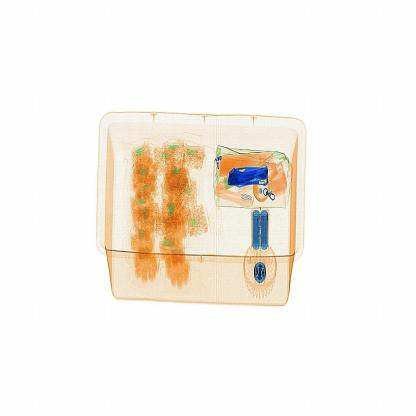knife: (228, 163, 273, 192)
